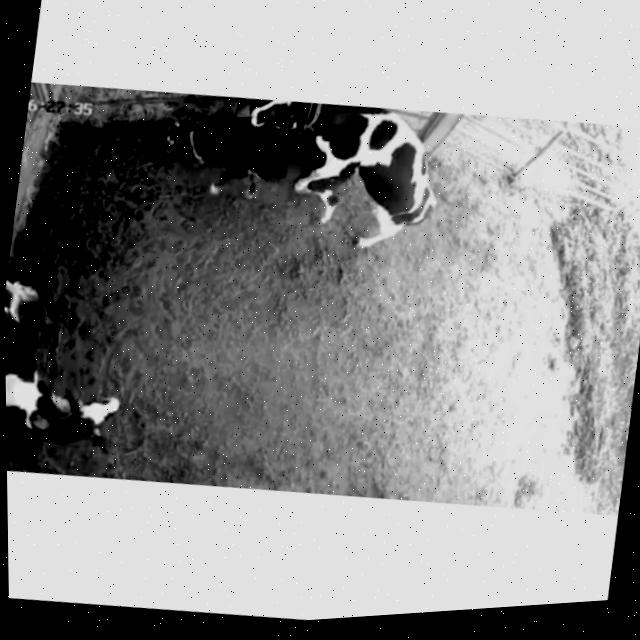ride: (229, 84, 450, 277)
